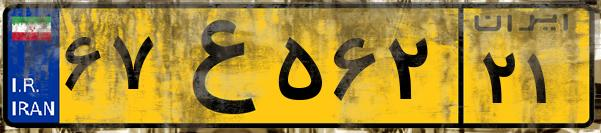1: (525, 38, 570, 115)
2: (385, 28, 445, 110), (475, 38, 525, 113)
5: (270, 28, 330, 110)
6: (330, 28, 385, 110), (57, 26, 110, 100)
7: (110, 28, 158, 98)
ع: (158, 12, 270, 120)
